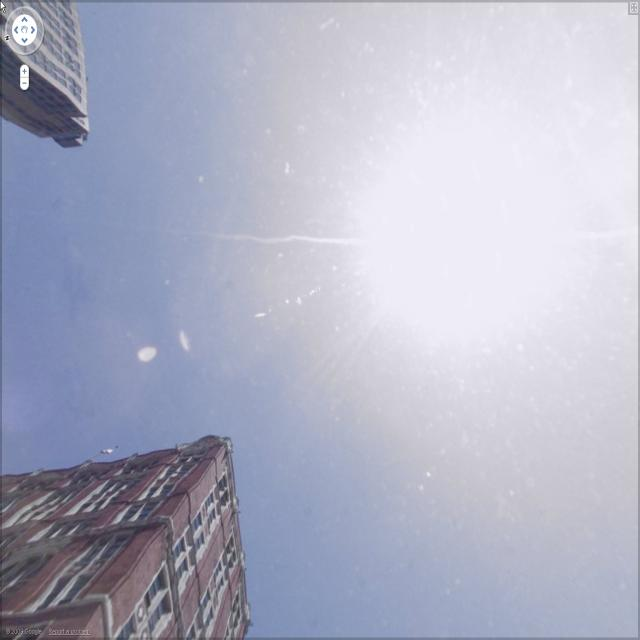b_1: (4, 444, 248, 640), (0, 8, 99, 138)
